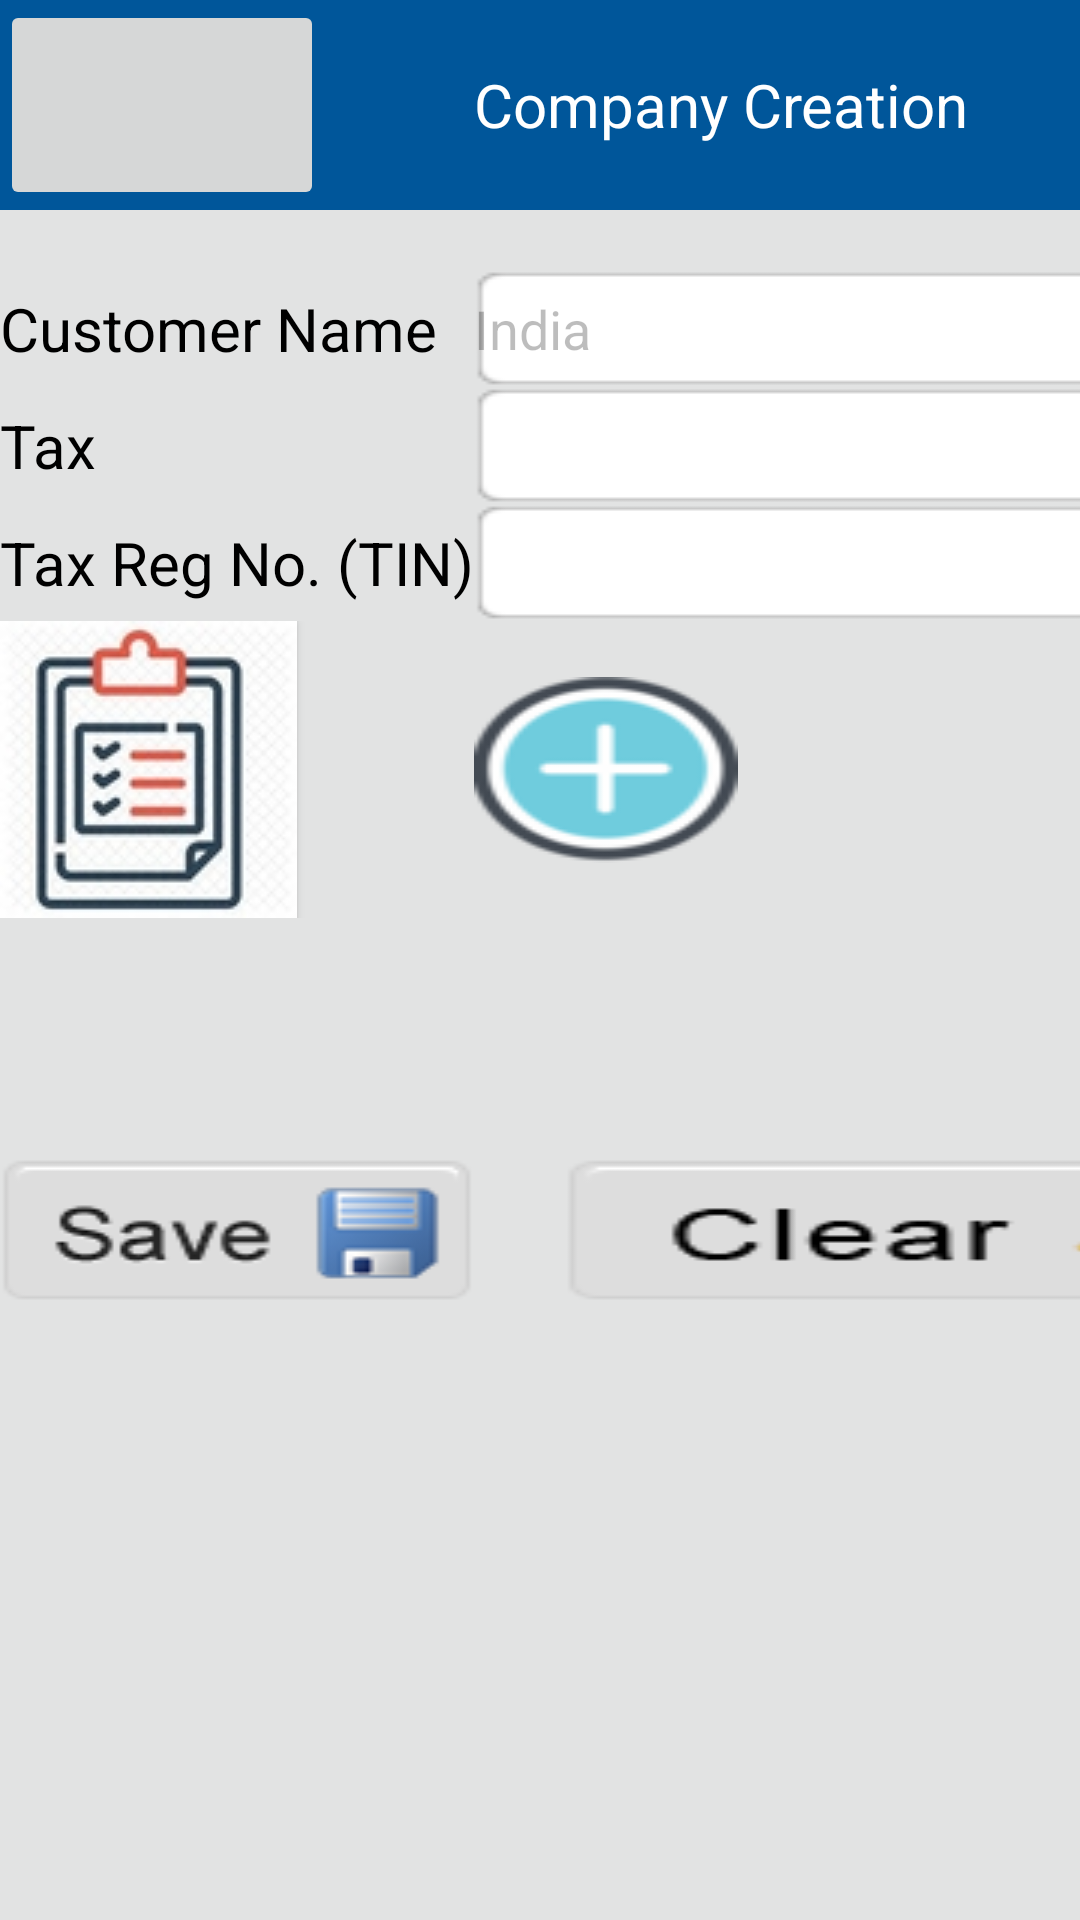

Named icons in this screenshot (1080px x 1920px) and their bounding boxes, (x1, y1, x2, y2):
create: (474, 677, 738, 861)
details: (0, 621, 297, 918)
